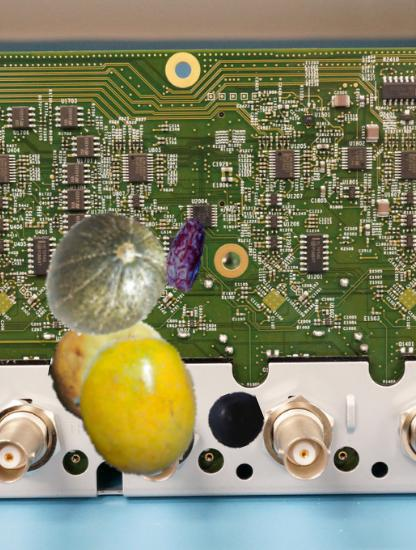Dates: (147, 217, 223, 293)
Grape: (208, 393, 263, 448)
Maracuja: (67, 335, 210, 478)
Melon: (38, 204, 175, 341)
Quince: (49, 312, 174, 437)
